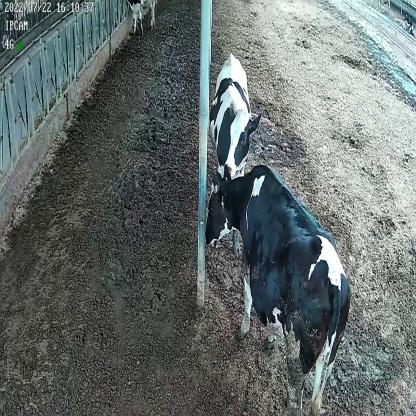cow: (205, 165, 350, 416), (209, 51, 264, 175)
